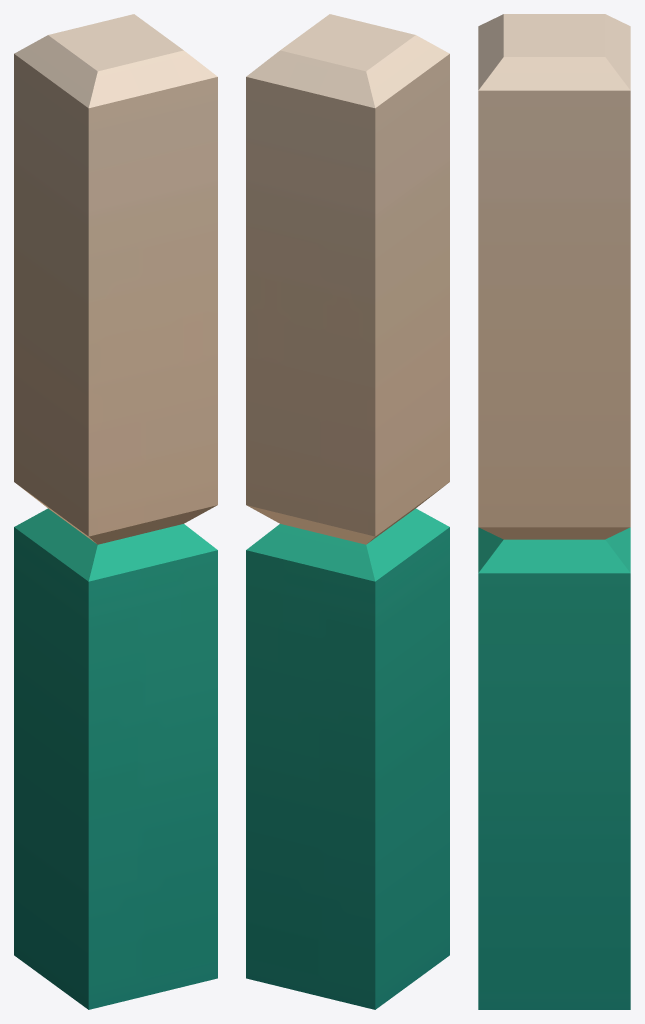
Rendered from kaykit-restaurant-bits-pillar-a.glb.
The picture shows the model from 3 angles, left to right: view 1: azimuth 30°, elevation 25°; view 2: azimuth 150°, elevation 25°; view 3: azimuth 270°, elevation 25°; orthographic projection.
Visible parts, largest first — view 1: pillar_A; view 2: pillar_A; view 3: pillar_A.
Boxes of the visible parts, <box> form: pillar_A: <box>14,14,217,1009</box>; pillar_A: <box>246,14,449,1009</box>; pillar_A: <box>478,14,630,1009</box>.
Size of the model in its own units: 0.6001 by 4.1 by 0.6001.
Materials: 1 (1 with a texture image).
